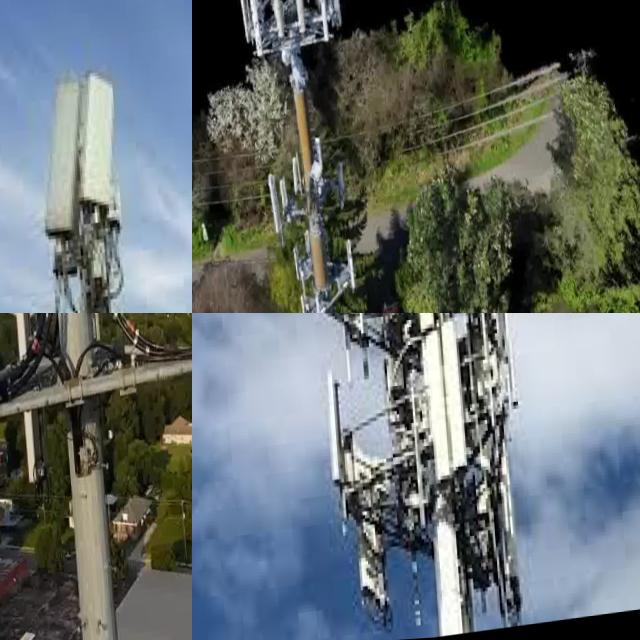GSM Antenna: (39, 61, 95, 253), (7, 313, 47, 485), (79, 75, 121, 210), (418, 326, 453, 485), (436, 319, 469, 475), (61, 313, 100, 424), (318, 366, 342, 501), (262, 171, 288, 244), (340, 239, 360, 298), (246, 0, 265, 55), (289, 0, 309, 50), (410, 313, 442, 344), (312, 0, 329, 51), (314, 139, 329, 192), (269, 0, 284, 47), (292, 242, 306, 292), (290, 156, 304, 196), (336, 165, 348, 211), (315, 297, 323, 313), (300, 302, 310, 313)
